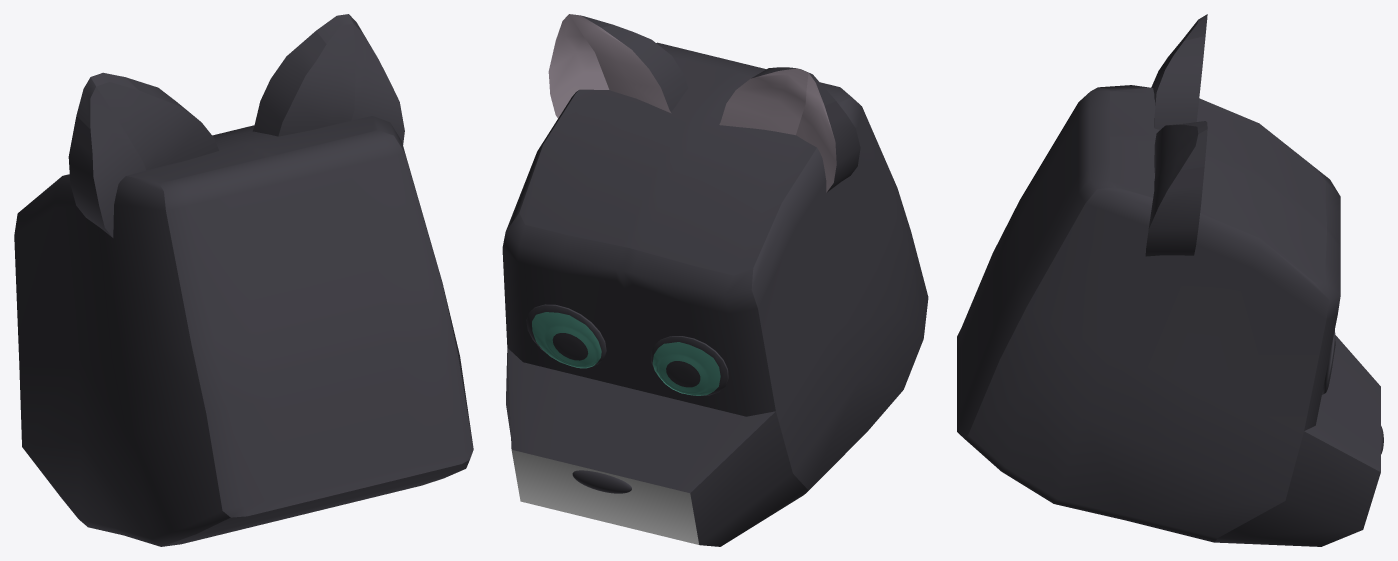
File: cat_Head.fbx
3 views of the same model, side by side, from view 1: azimuth 30°, elevation 25°; view 2: azimuth 150°, elevation 25°; view 3: azimuth 270°, elevation 25° (orthographic). The views are drawn at different scales.
Visible parts, largest first — view 1: catHead; view 2: catHead; view 3: catHead.
Boxes of the visible parts, x1,y1,x2,y2 form: catHead: [14, 14, 473, 546]; catHead: [502, 14, 928, 546]; catHead: [957, 14, 1383, 546].
Bounding box in the file's own units: 308 × 435 × 386.
